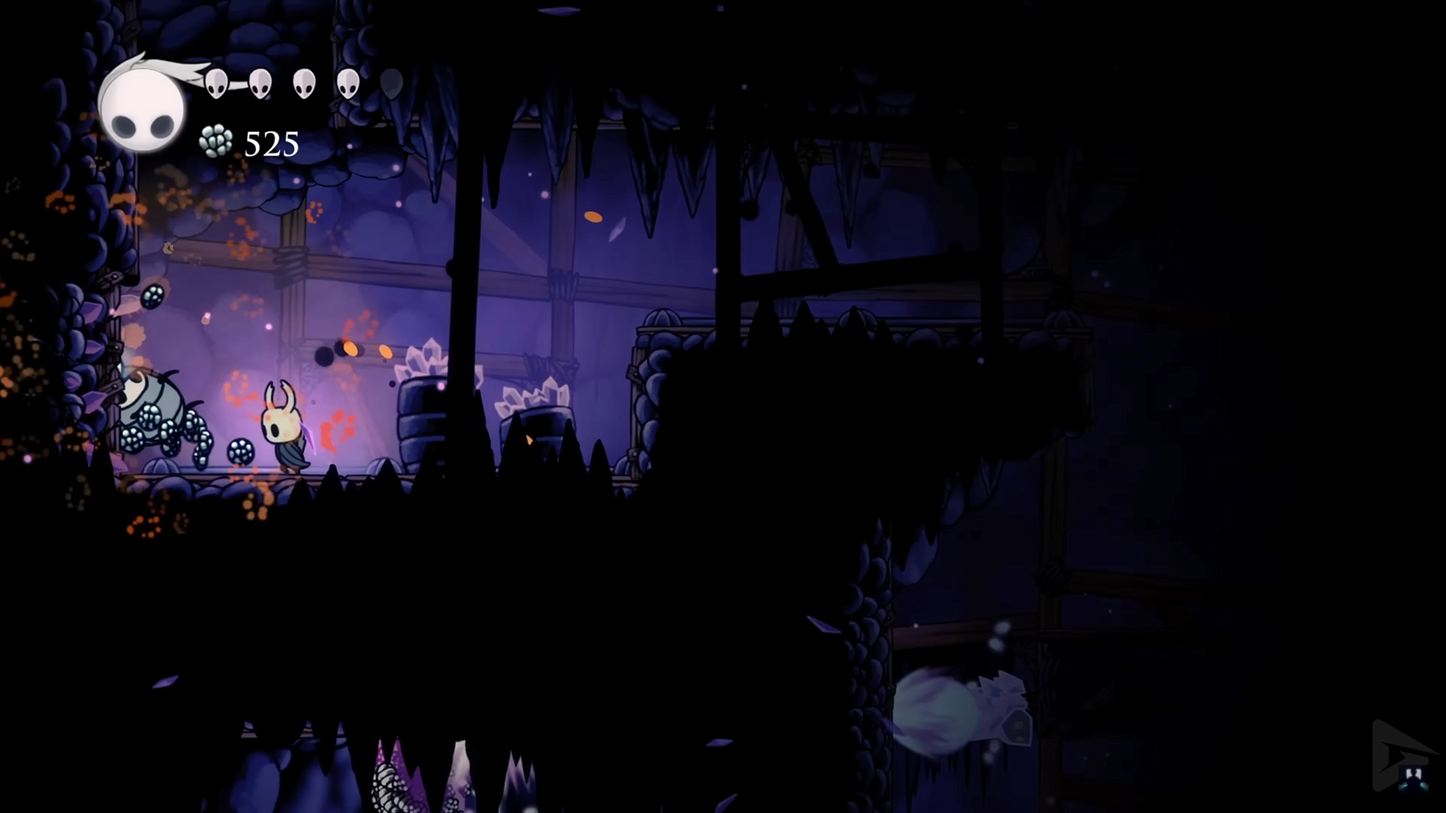HK: (257, 378, 310, 473)
